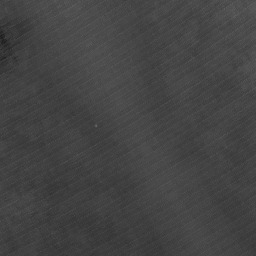Target: (93, 123, 99, 129)
